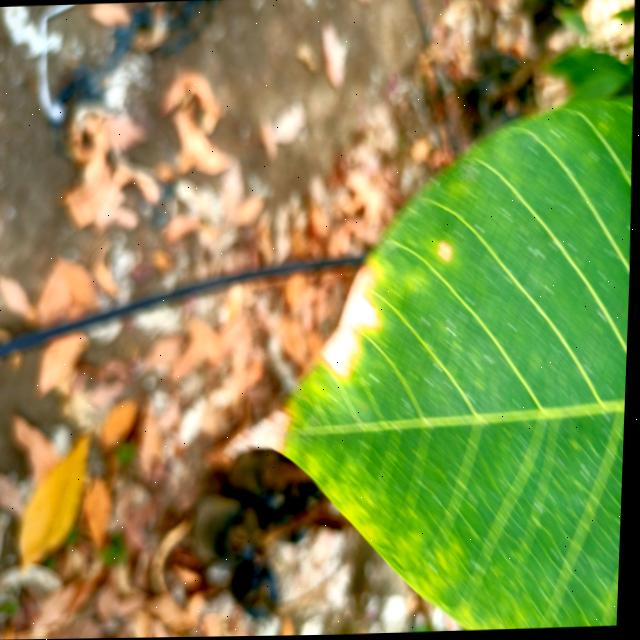Leaf-Blight: (320, 269, 385, 385), (228, 408, 296, 459)
